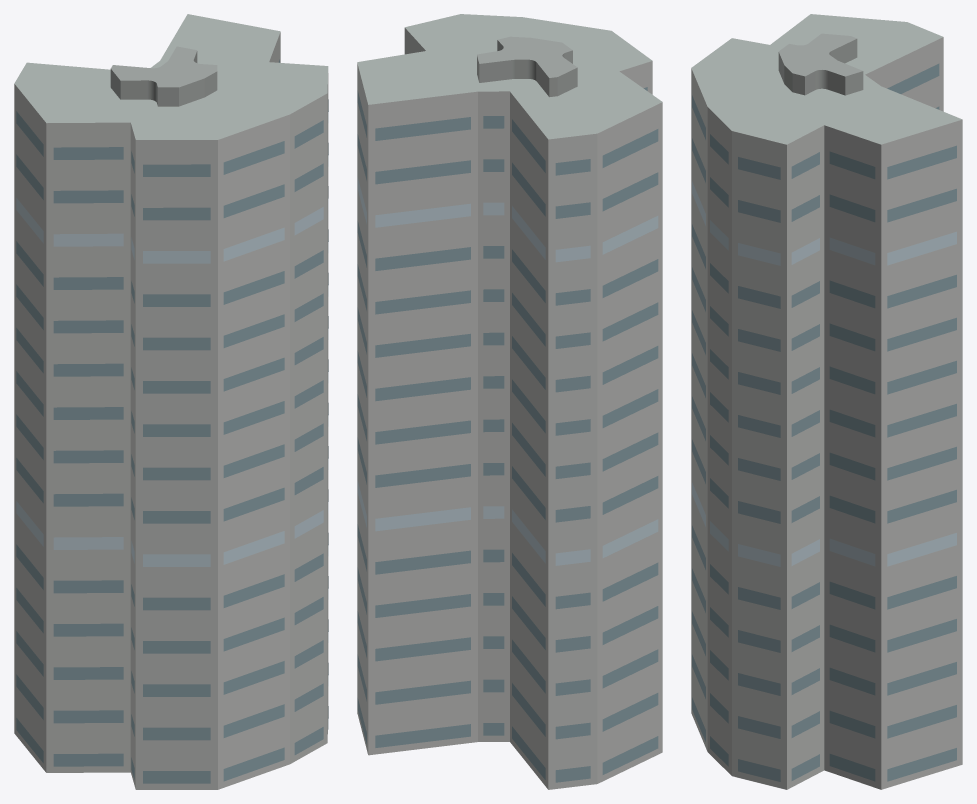
Rendered from fallback-jamsil-parkrio-227.glb.
The picture shows the model from 3 angles, left to right: view 1: azimuth 30°, elevation 25°; view 2: azimuth 150°, elevation 25°; view 3: azimuth 270°, elevation 25°; orthographic projection.
Visible parts, largest first — view 1: fallback-jamsil-parkrio-227; view 2: fallback-jamsil-parkrio-227; view 3: fallback-jamsil-parkrio-227.
Part boxes in pixels (bbox=[...]): fallback-jamsil-parkrio-227: bbox=[14, 14, 328, 789]; fallback-jamsil-parkrio-227: bbox=[357, 14, 662, 789]; fallback-jamsil-parkrio-227: bbox=[691, 14, 962, 789].
Bounding box in the file's own units: 35.48 × 84 × 31.11.
